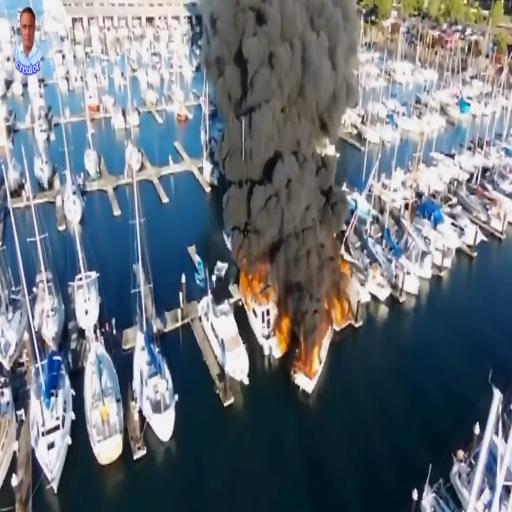fire: (296, 331, 327, 376), (241, 263, 273, 299), (334, 269, 351, 322)
smoke: (237, 0, 338, 248), (211, 2, 352, 136), (286, 151, 326, 314)
